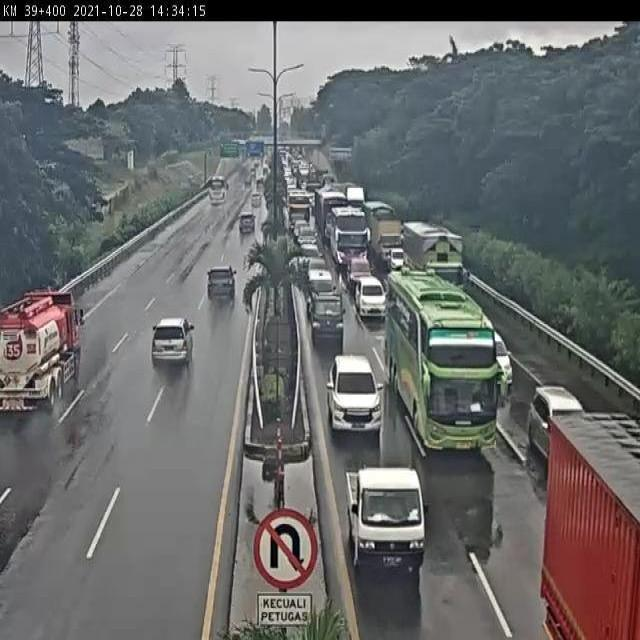car: (341, 461, 424, 572), (327, 359, 383, 436), (524, 379, 578, 453), (152, 316, 194, 368), (308, 292, 346, 344), (353, 272, 387, 320), (487, 324, 509, 385), (207, 262, 241, 298), (308, 275, 341, 309), (347, 255, 370, 289), (304, 255, 329, 281), (387, 246, 408, 274), (297, 234, 317, 258), (293, 219, 316, 239), (237, 212, 255, 236)
truck: (383, 270, 494, 450), (0, 285, 85, 416), (403, 219, 464, 291), (330, 208, 366, 265), (368, 212, 404, 264), (319, 195, 345, 239), (286, 190, 312, 230)
